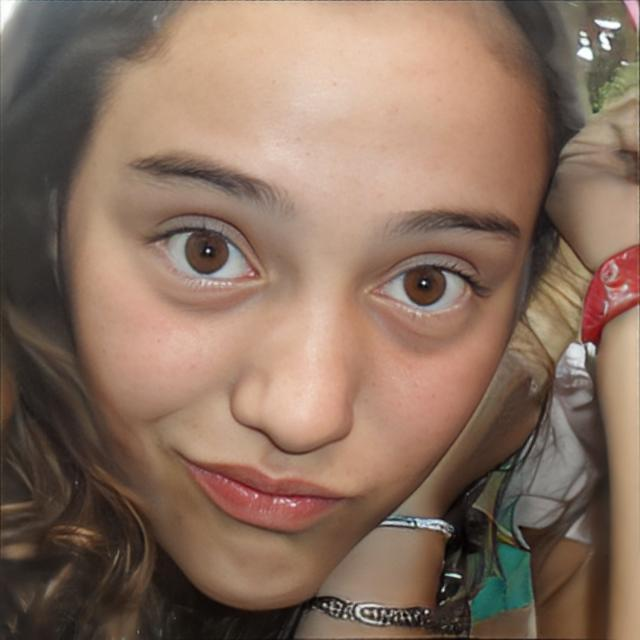content: (62, 0, 560, 610)
